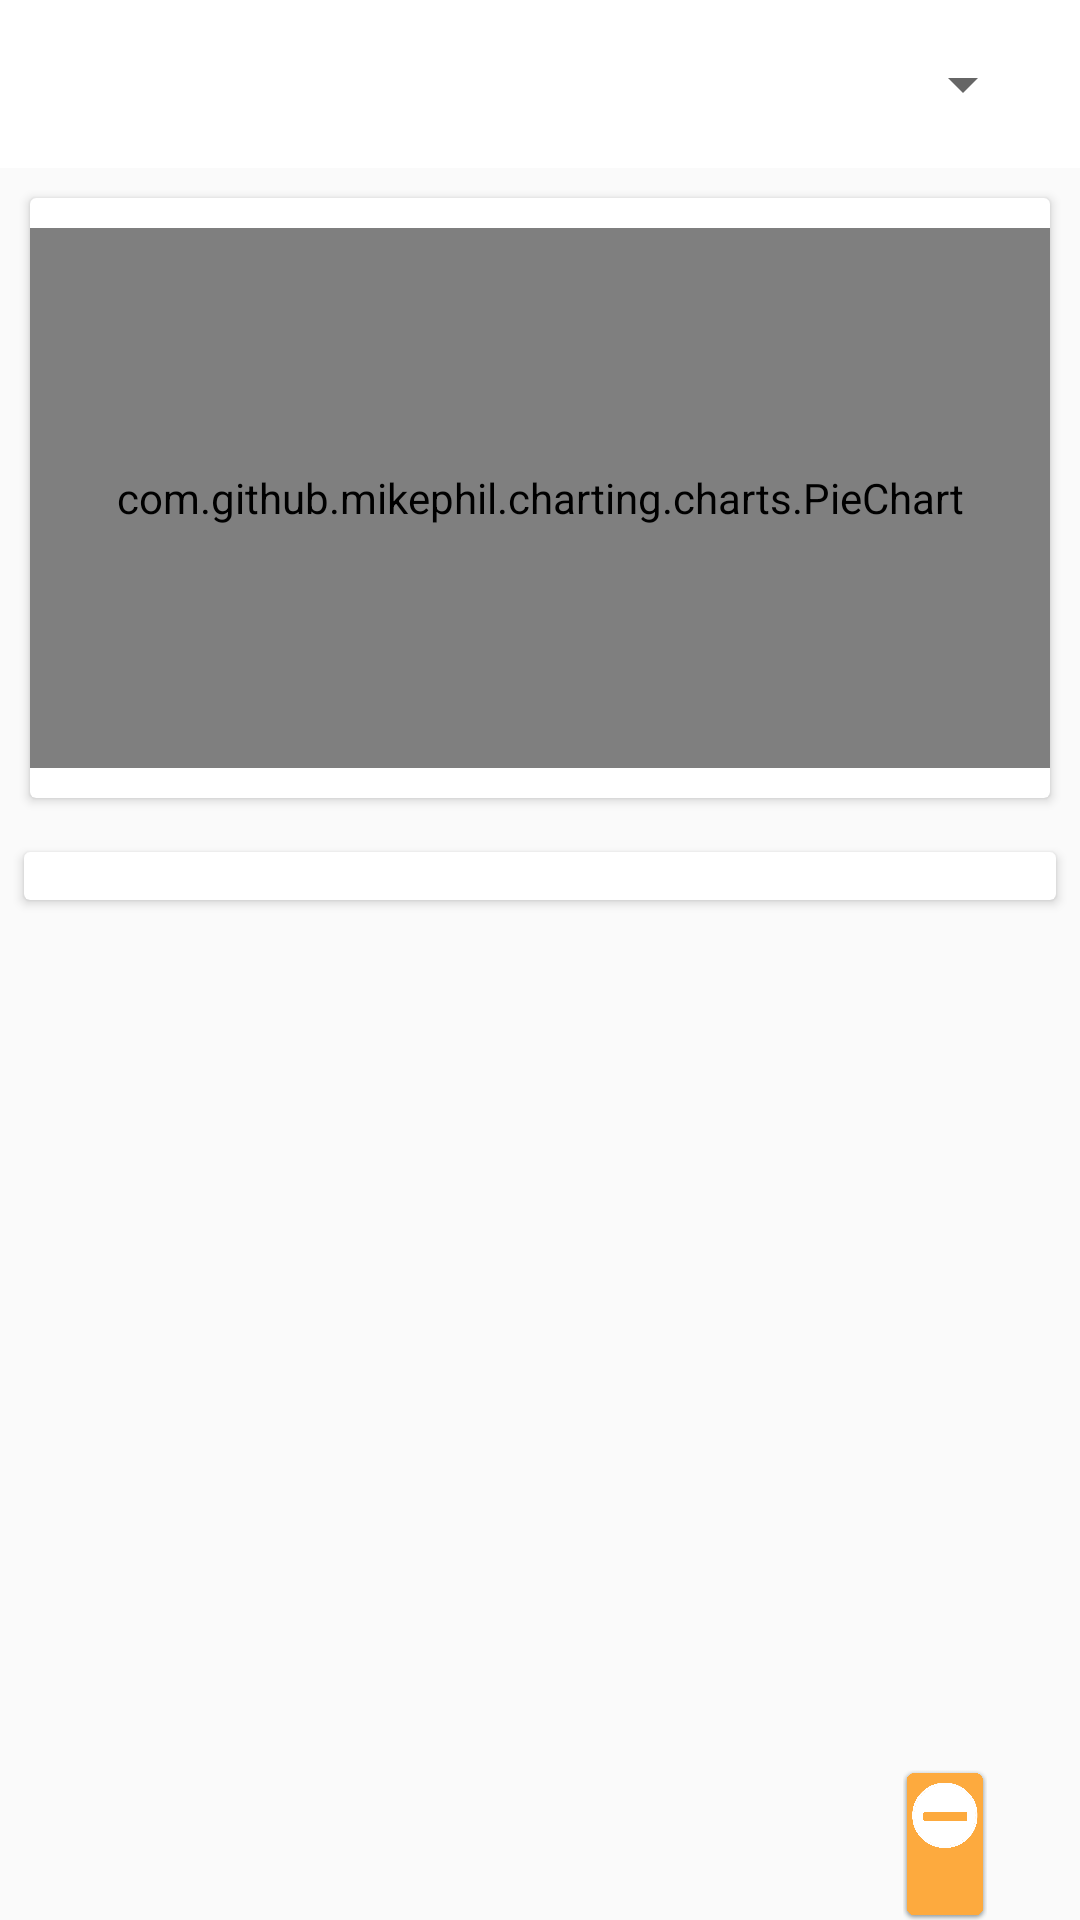

Where to tap for icons on this 1080x1920 app screen, as [x,y]:
substract: [944,1845]
